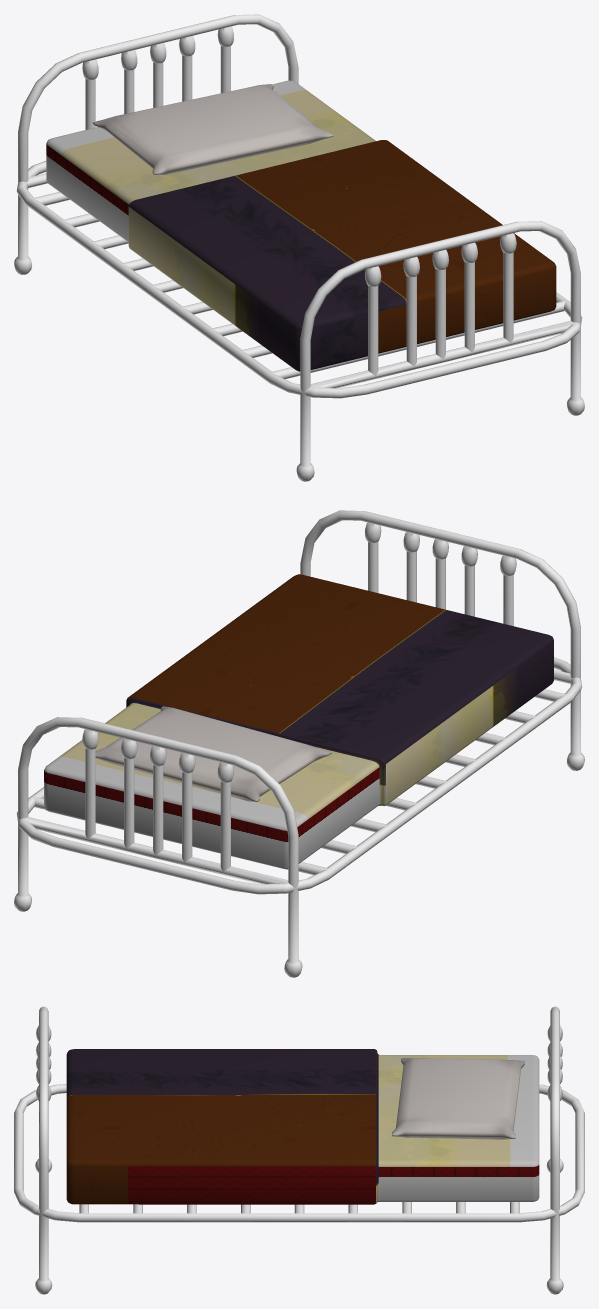
File: BedStaff.fbx
The picture shows the model from 3 angles, top to bottom: view 1: azimuth 30°, elevation 25°; view 2: azimuth 150°, elevation 25°; view 3: azimuth 270°, elevation 25°; orthographic projection. The views are drawn at different scales.
Visible parts, largest first — view 1: Colchón.002, Bed.003; view 2: Colchón.002, Bed.003; view 3: Colchón.002, Bed.003.
Part boxes in pixels (x1=…): Colchón.002: x1=46, y1=80, x2=556, y2=371; Bed.003: x1=14, y1=14, x2=584, y2=481; Colchón.002: x1=44, y1=574, x2=553, y2=869; Bed.003: x1=14, y1=510, x2=584, y2=977; Colchón.002: x1=66, y1=1049, x2=539, y2=1204; Bed.003: x1=14, y1=1006, x2=584, y2=1294.
Size of the model in its own units: 157 by 102 by 282.
